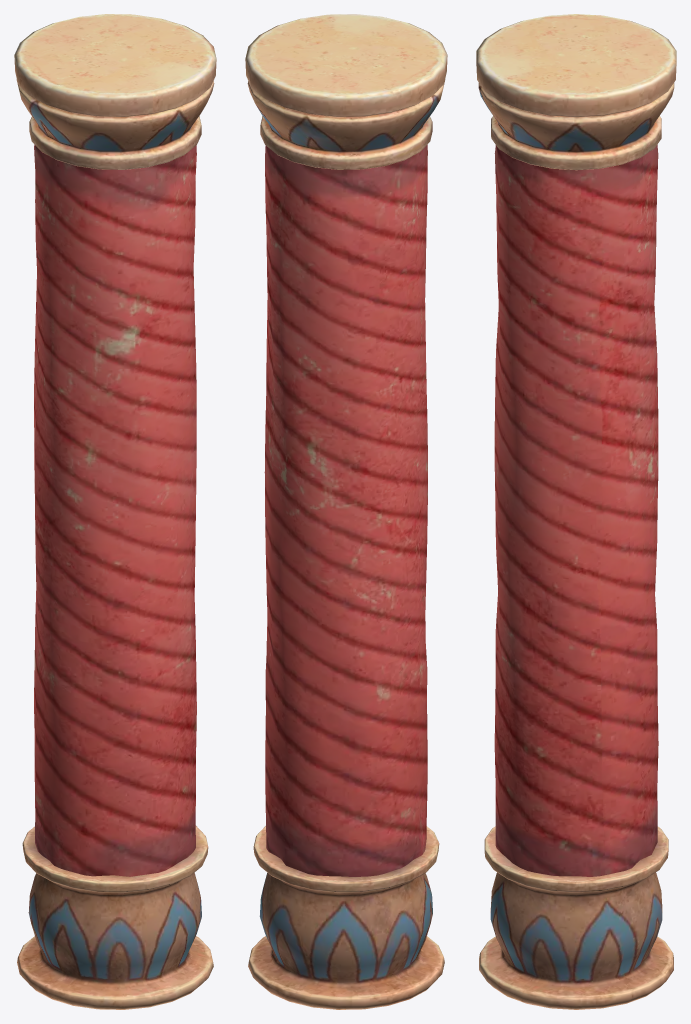
3 renders of one model, left to right at view 1: azimuth 30°, elevation 25°; view 2: azimuth 150°, elevation 25°; view 3: azimuth 270°, elevation 25°, orthographic.
Visible parts, largest first — view 1: SM_BB_T4_Column_01_LOD0; view 2: SM_BB_T4_Column_01_LOD0; view 3: SM_BB_T4_Column_01_LOD0.
Boxes of the visible parts, x1,y1,x2,y2 form: SM_BB_T4_Column_01_LOD0: [14, 14, 216, 1009]; SM_BB_T4_Column_01_LOD0: [245, 14, 447, 1009]; SM_BB_T4_Column_01_LOD0: [476, 14, 676, 1009].
Bounding box in the file's own units: 0.6023 × 3.01 × 0.596.
Materials: 1 (1 with a texture image).
